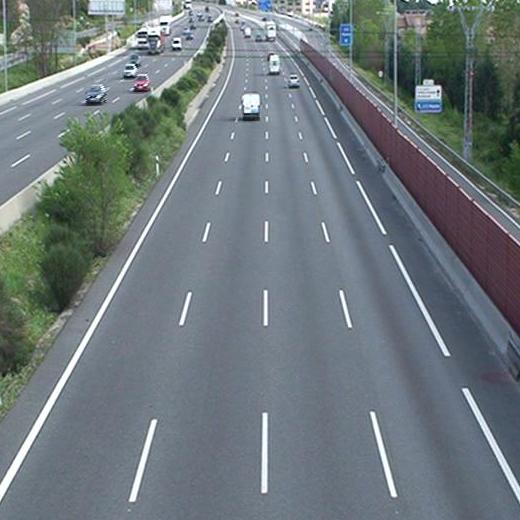car: (288, 74, 300, 88), (255, 33, 263, 43)
truck: (265, 21, 276, 40)
van: (241, 92, 261, 123), (268, 56, 280, 73), (243, 26, 253, 37)
